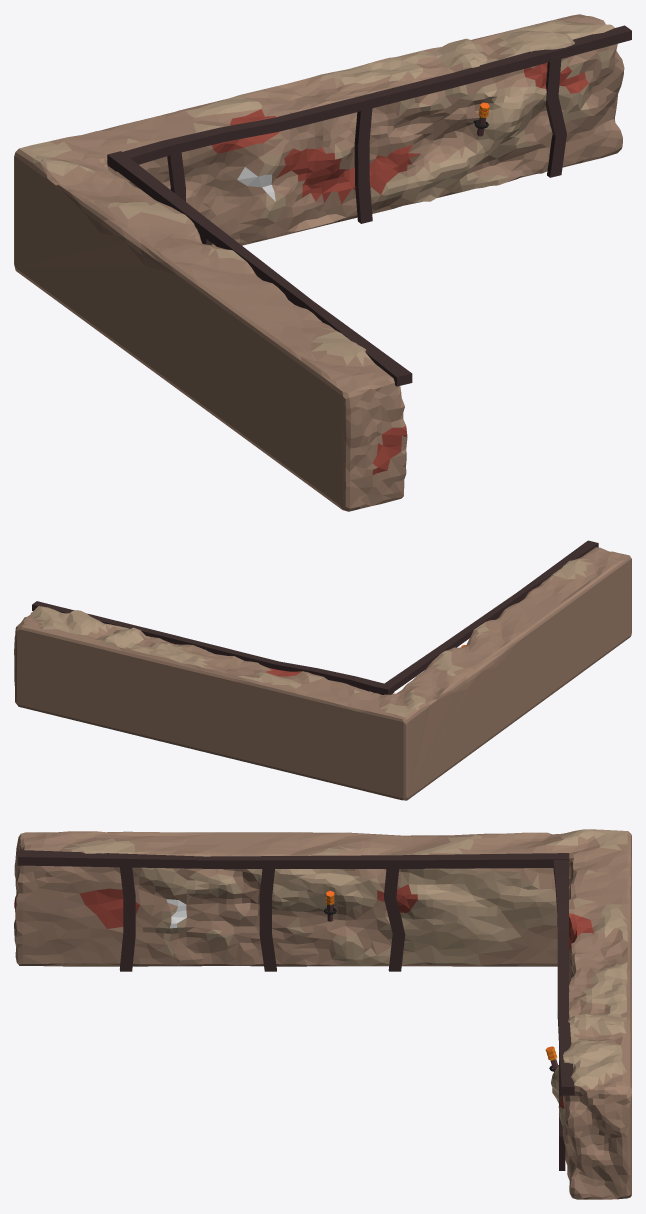
File: Pared 2.fbx
The picture shows the model from 3 angles, top to bottom: view 1: azimuth 30°, elevation 25°; view 2: azimuth 150°, elevation 25°; view 3: azimuth 270°, elevation 25°; orthographic projection. The views are drawn at different scales.
Parts seen in each view (by area): view 1: Pared 2, Madera.001; view 2: Pared 2, Madera.001; view 3: Pared 2, Madera.001.
Part boxes in pixels (box(x1,y1,x2,y2)): Pared 2: box(14, 14, 624, 511); Madera.001: box(107, 25, 631, 386); Pared 2: box(14, 547, 631, 800); Madera.001: box(32, 540, 598, 694); Pared 2: box(14, 829, 631, 1199); Madera.001: box(17, 850, 574, 1170).
Size of the model in its own units: 1010 by 217 by 1008.
